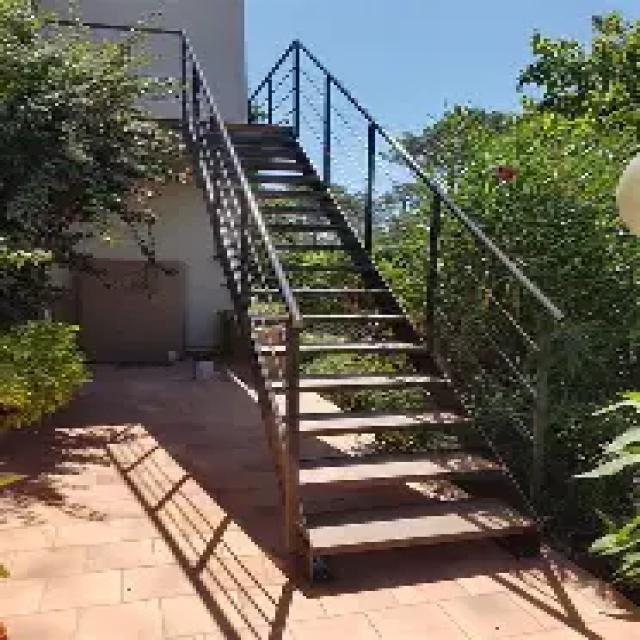Stairs: (226, 194, 614, 571)
